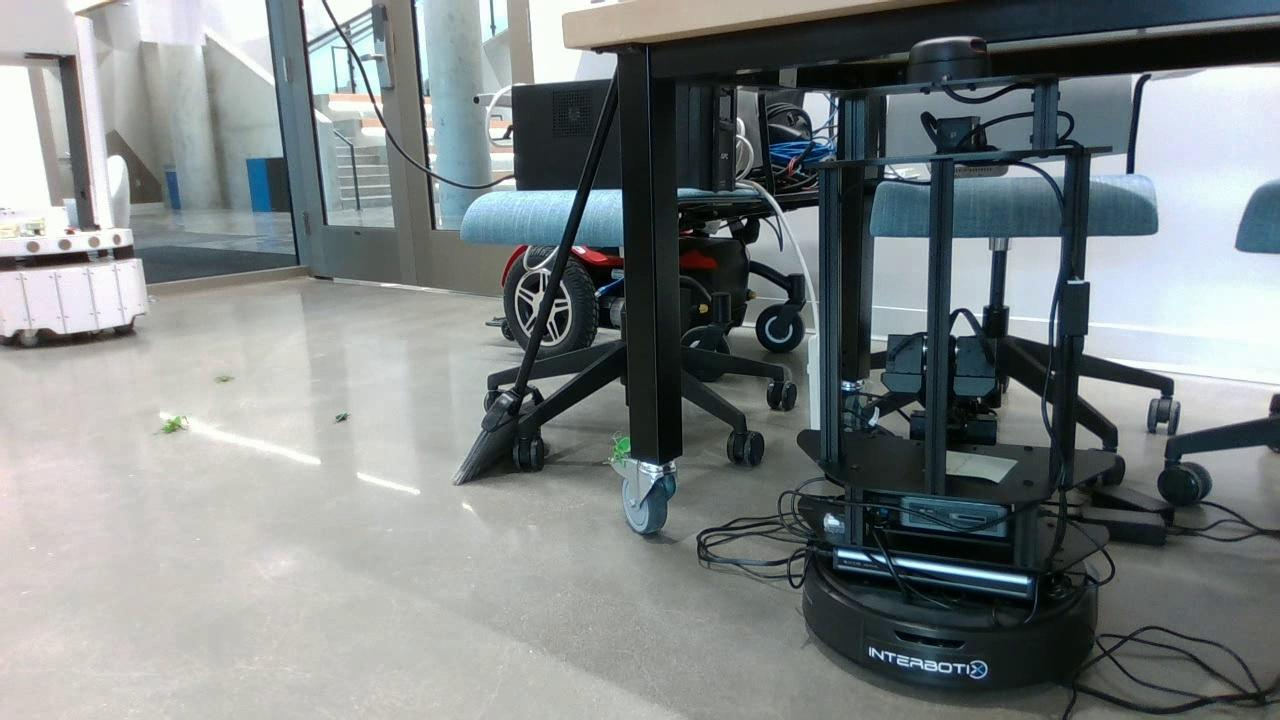grasshopper: (608, 437, 630, 463)
